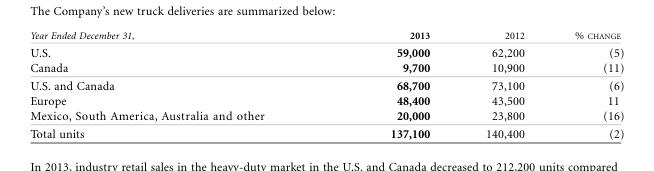table: (29, 29, 623, 139)
table column: (29, 29, 326, 139), (326, 29, 457, 139), (457, 29, 548, 139), (548, 29, 623, 139)
table column header: (29, 29, 623, 43)
table row: (29, 43, 623, 60), (29, 60, 623, 76), (29, 76, 623, 92), (29, 92, 623, 108), (29, 108, 623, 124), (29, 124, 623, 139), (29, 29, 623, 43)
